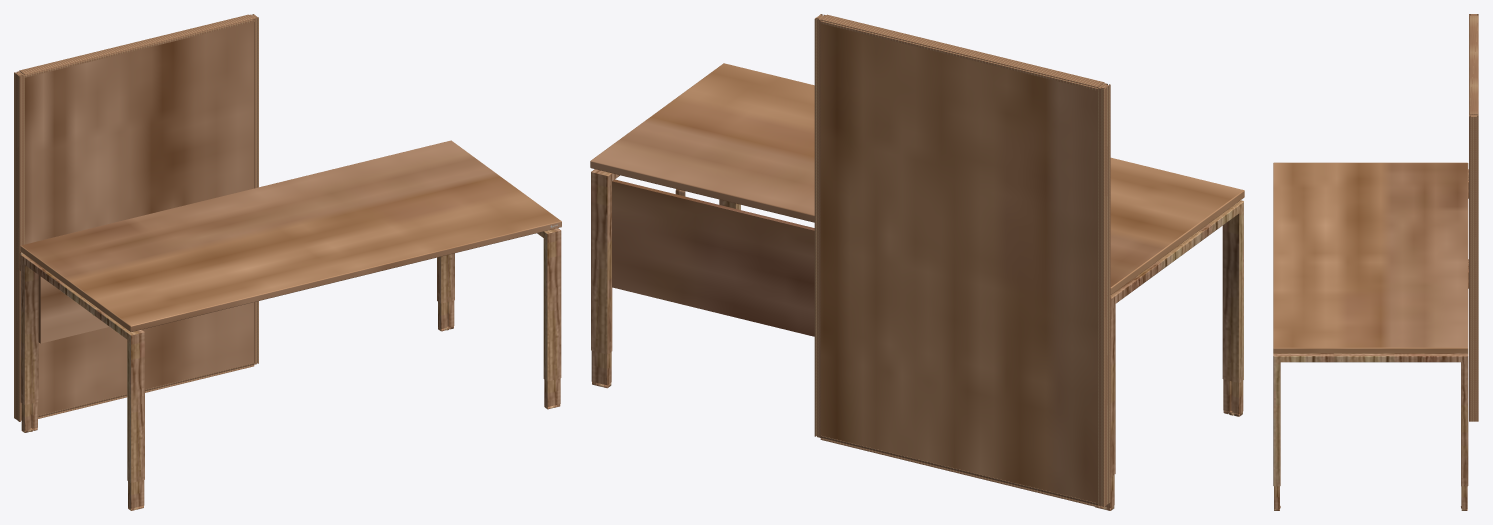
The model's file is rectangle_180x80_screen_legroom_finala.fbx.
3 views of the same model, side by side, from view 1: azimuth 30°, elevation 25°; view 2: azimuth 150°, elevation 25°; view 3: azimuth 270°, elevation 25° (orthographic). The views are drawn at different scales.
Visible parts, largest first — view 1: screen_mesh, blat_mesh, metal_mesh, metal2_mesh, drewno_mesh; view 2: screen_mesh, blat_mesh, drewno_mesh, metal2_mesh, metal_mesh; view 3: blat_mesh, metal_mesh, metal2_mesh.
Boxes of the visible parts, bbox=[...] form: screen_mesh: bbox=[24, 22, 253, 415]; blat_mesh: bbox=[20, 140, 561, 331]; metal_mesh: bbox=[19, 228, 561, 508]; metal2_mesh: bbox=[14, 14, 258, 421]; drewno_mesh: bbox=[38, 275, 109, 343]; screen_mesh: bbox=[820, 23, 1097, 503]; blat_mesh: bbox=[590, 63, 1244, 294]; drewno_mesh: bbox=[612, 179, 814, 336]; metal2_mesh: bbox=[814, 14, 1110, 507]; metal_mesh: bbox=[591, 169, 1243, 507]; blat_mesh: bbox=[1273, 162, 1468, 353]; metal_mesh: bbox=[1273, 169, 1468, 508]; metal2_mesh: bbox=[1469, 14, 1478, 421].
Size of the model in its own units: 180 by 142 by 84.3.
